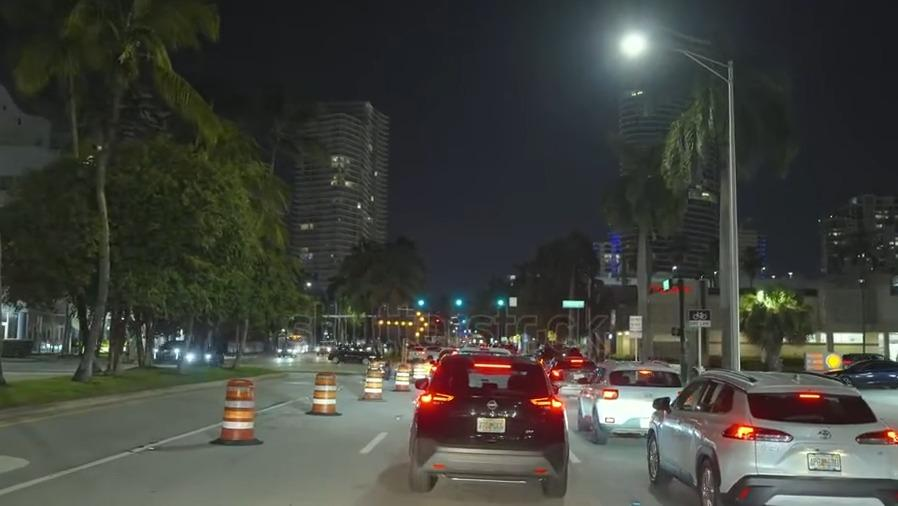arrow traffic sign: (375, 307, 433, 338)
car: (652, 366, 898, 506), (403, 354, 571, 495), (575, 361, 679, 444), (829, 355, 898, 389), (549, 355, 591, 390), (329, 345, 379, 366), (153, 338, 190, 362), (189, 346, 226, 367), (410, 343, 437, 360)
cone: (219, 374, 256, 445), (310, 368, 339, 419), (361, 363, 382, 402), (409, 360, 427, 387), (394, 361, 407, 391)
traffic light: (490, 291, 520, 312), (446, 294, 471, 311), (411, 296, 431, 311)
wheel: (689, 448, 721, 506), (647, 431, 663, 483)
